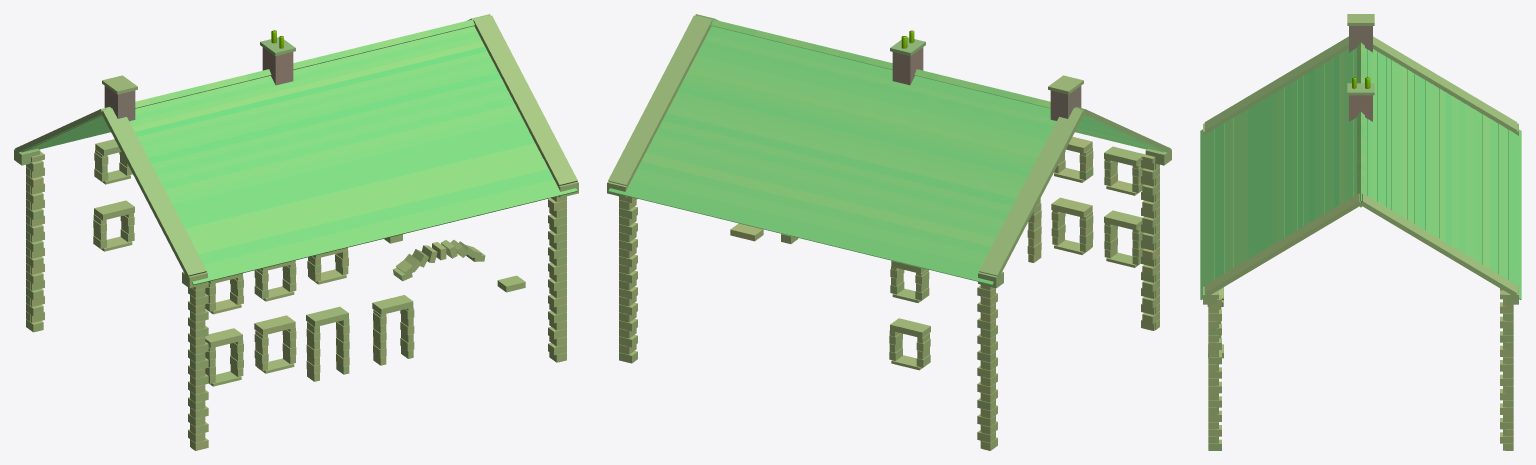
File: SM_Bld_150_Stone.glb
3 views of the same model, side by side, from view 1: azimuth 30°, elevation 25°; view 2: azimuth 150°, elevation 25°; view 3: azimuth 270°, elevation 25° (orthographic). The views are drawn at different scales.
Parts seen in each view (by area): view 1: SM_Bld_150_Stone; view 2: SM_Bld_150_Stone; view 3: SM_Bld_150_Stone.
Boxes of the visible parts, bbox=[...] form: SM_Bld_150_Stone: bbox=[14, 14, 578, 450]; SM_Bld_150_Stone: bbox=[607, 14, 1171, 450]; SM_Bld_150_Stone: bbox=[1200, 14, 1521, 450].
Size of the model in its own units: 15.24 by 11.74 by 12.08.
